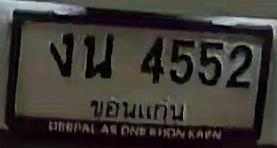number: (44, 21, 261, 93)
province: (86, 91, 189, 124)
